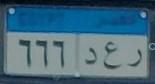6: (33, 37, 49, 68), (18, 37, 32, 69), (52, 38, 66, 68)
ain: (103, 38, 121, 70)
daal: (84, 45, 99, 66)
raa: (125, 45, 144, 72)
